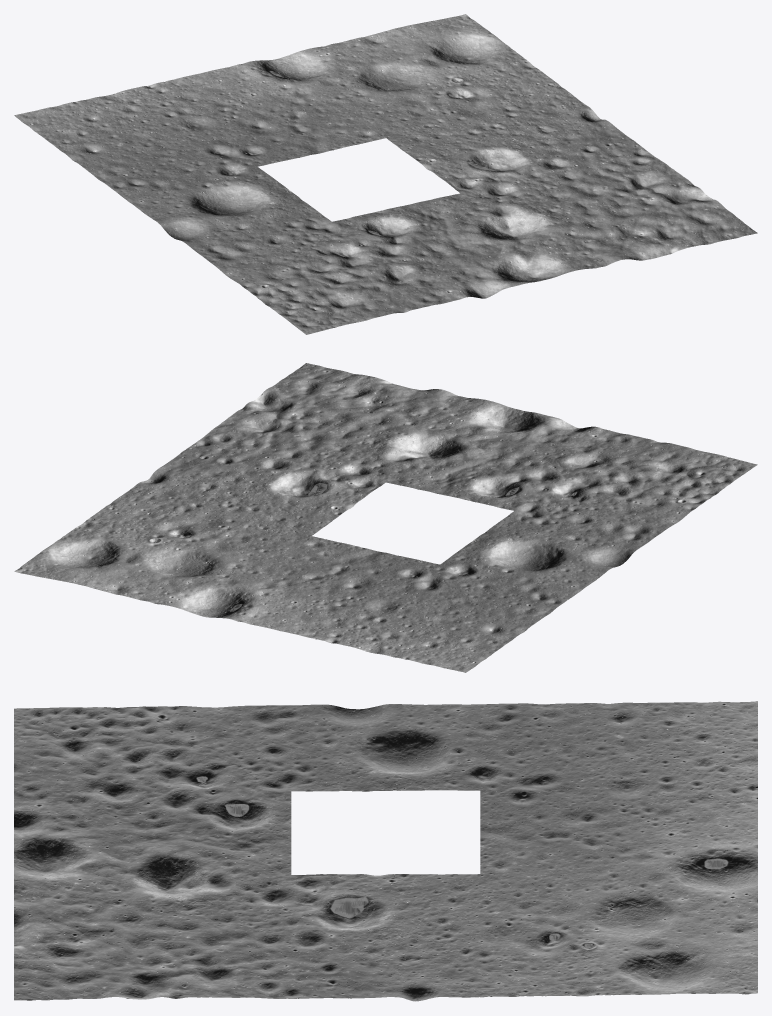
The model's file is near-high.glb.
3 views of the same model, one above another, from view 1: azimuth 30°, elevation 25°; view 2: azimuth 150°, elevation 25°; view 3: azimuth 270°, elevation 25° (orthographic). The views are drawn at different scales.
Visible parts, largest first — view 1: near; view 2: near; view 3: near.
Part boxes in pixels (left/top/right/bottom): near: left=14, top=14, right=757, bottom=334; near: left=14, top=363, right=757, bottom=672; near: left=14, top=701, right=757, bottom=1001.
Size of the model in its own units: 4230 by 155 by 4738.
1 material, 1 textured.
